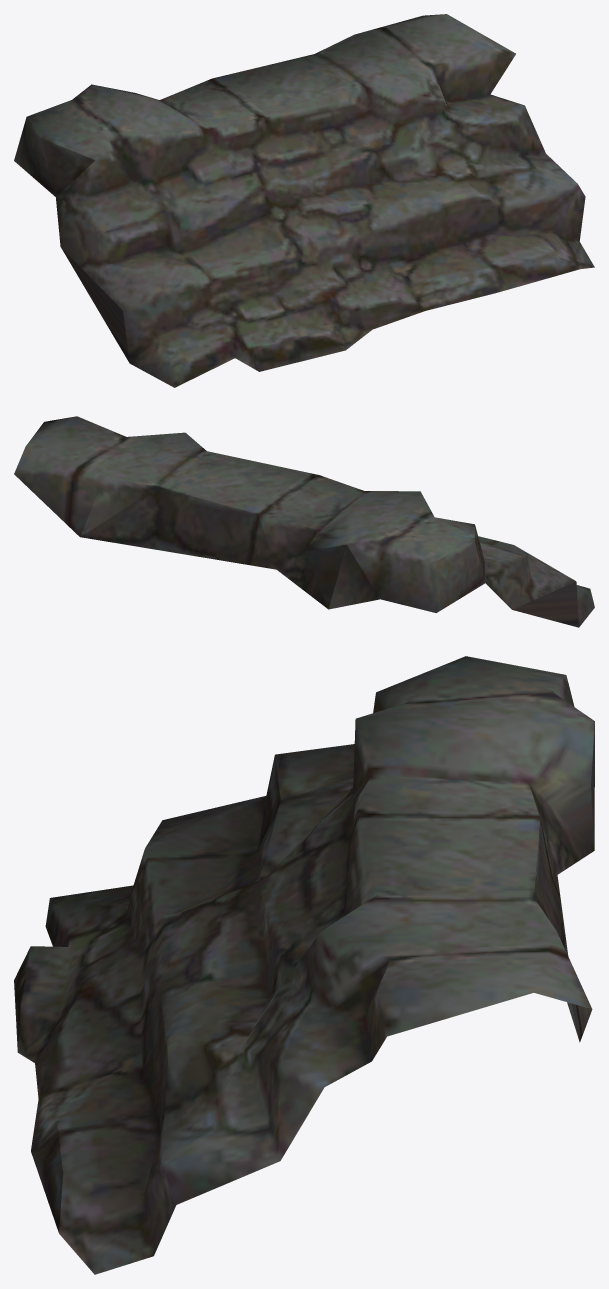
File: S_Build_Desert119_1.FBX
3 views of the same model, one above another, from view 1: azimuth 30°, elevation 25°; view 2: azimuth 150°, elevation 25°; view 3: azimuth 270°, elevation 25° (orthographic). The views are drawn at different scales.
Visible parts, largest first — view 1: S_Build_Desert119_1; view 2: S_Build_Desert119_1; view 3: S_Build_Desert119_1.
Part boxes in pixels (<box>): S_Build_Desert119_1: <box>14,14,594,387</box>; S_Build_Desert119_1: <box>14,416,594,627</box>; S_Build_Desert119_1: <box>14,656,594,1274</box>.
Size of the model in its own units: 477 by 308 by 163.
1 material, 1 textured.
